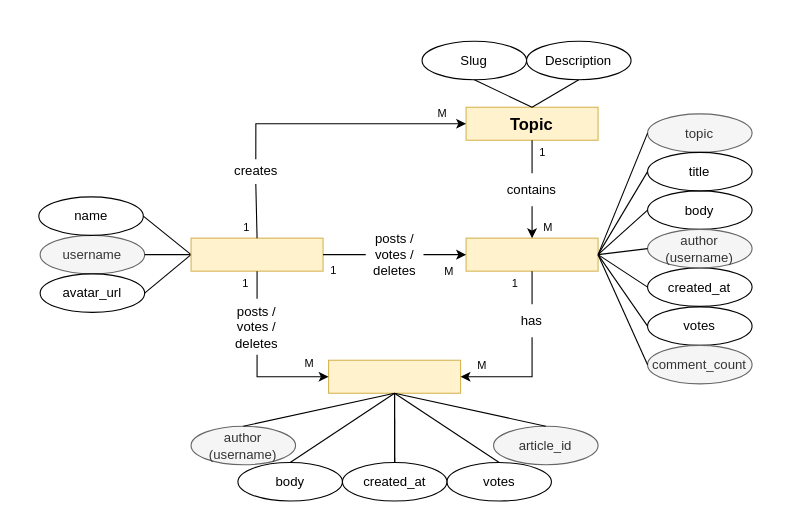
Some shapes in this 796 by 532 pixel diagram are drawn without their labels. The centre of each missing label's shape, as x and y in pixels:
Article: pixel 531 254
Comment: pixel 394 376
User: pixel 256 254
